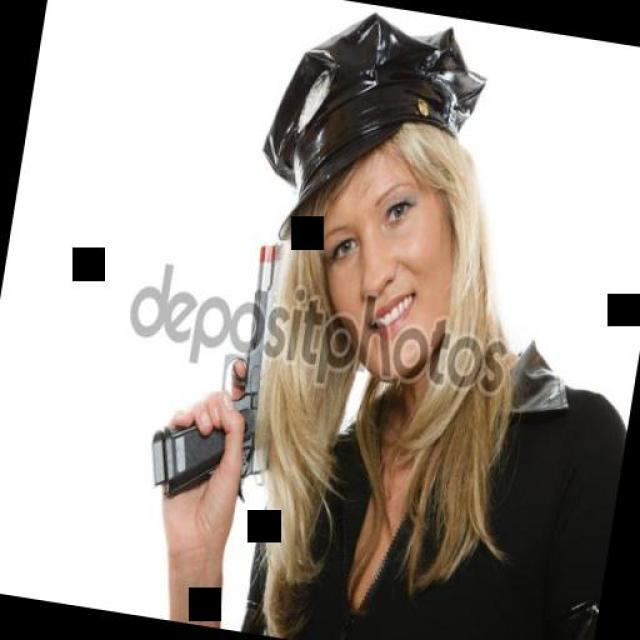gun: (148, 208, 318, 520)
